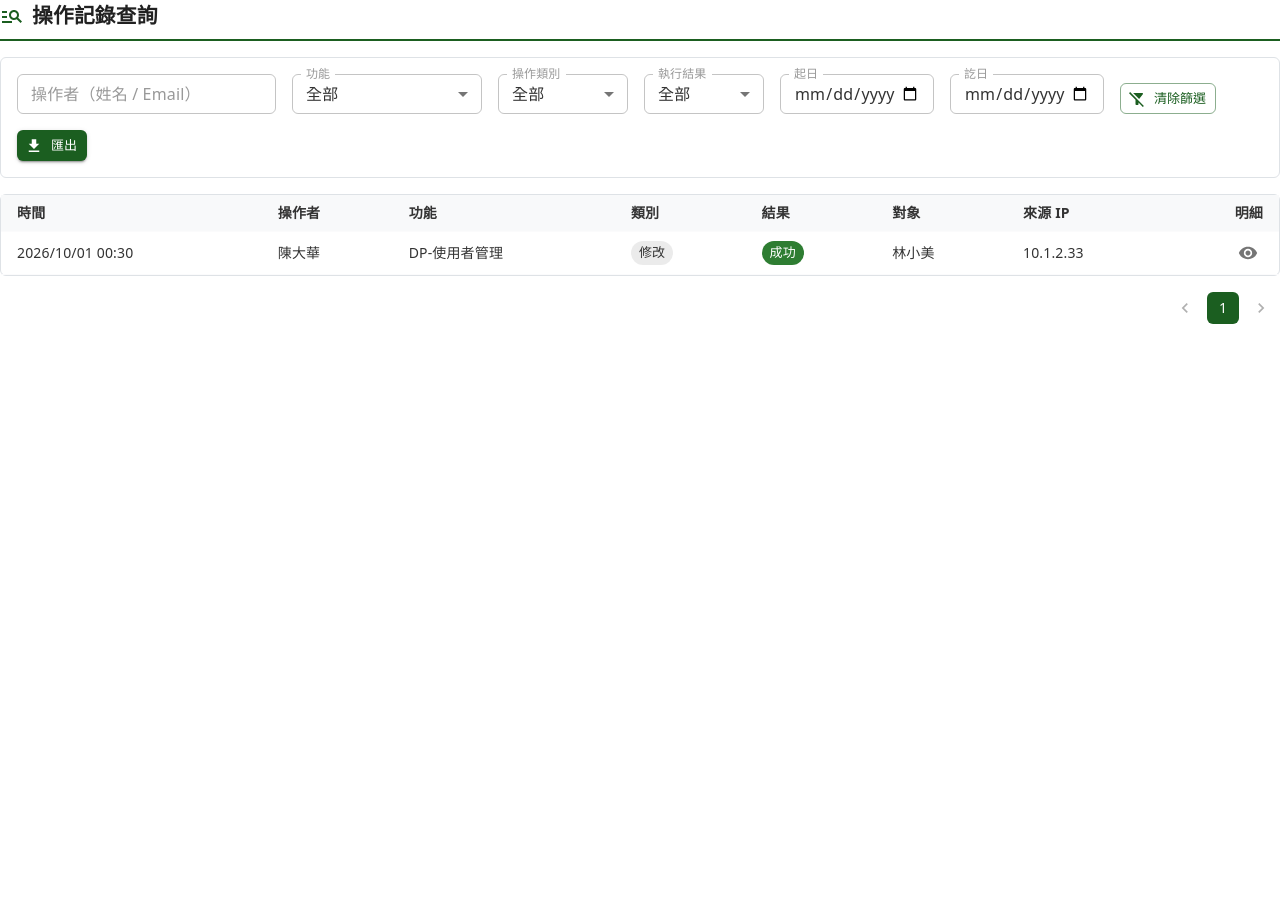
Test: AuditPage 時刻欄以台灣時間呈現（#559） › 明細視窗的時間欄為台灣時間，不隨瀏覽器時區
Expected: the text "2026/10/01 00:30" is shown, [1,231,262,274]
Click the button named "明細" at (1248, 253), box [1233,238,1263,268]
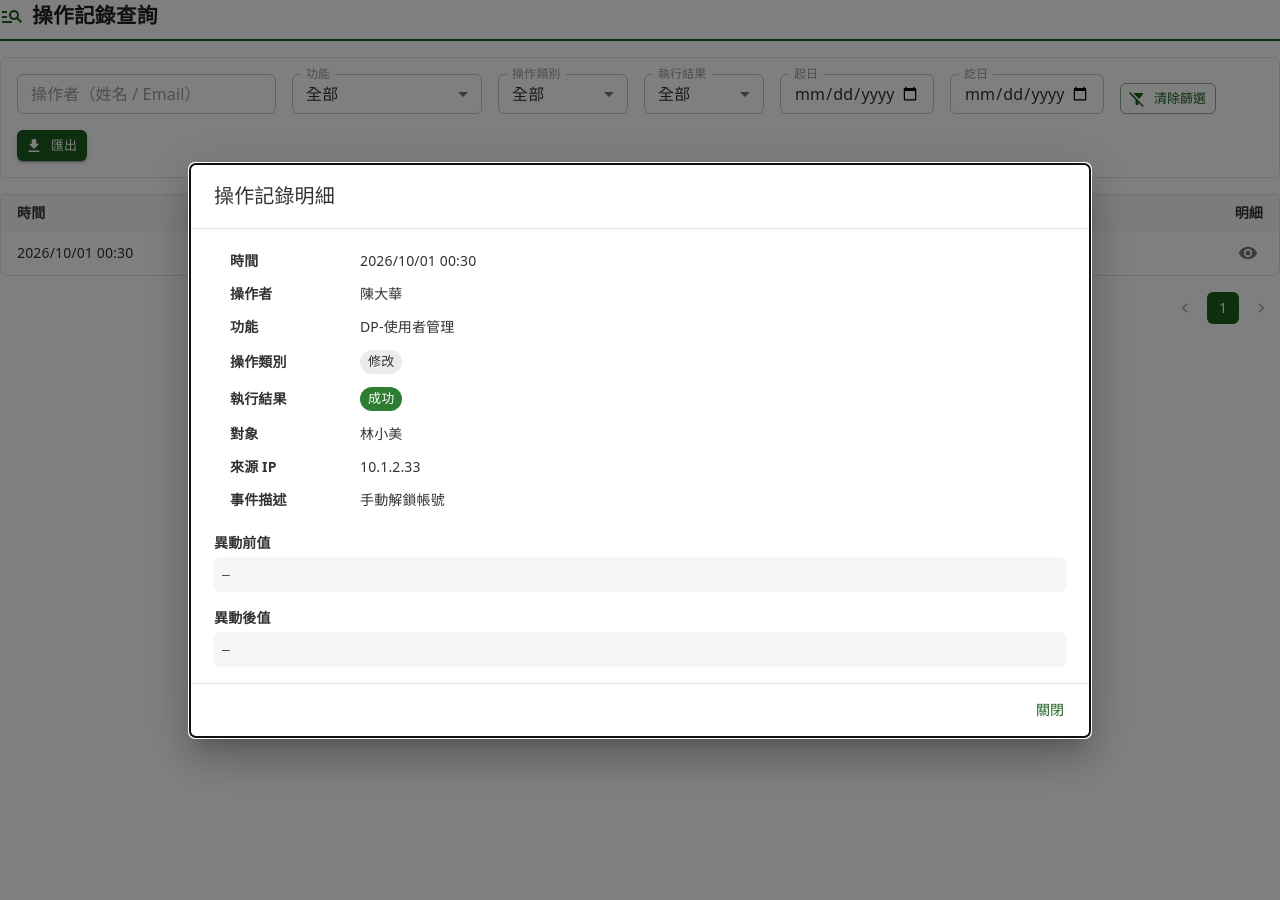
Expected: the text "2026/10/01 00:30" is shown, [344,244,1066,277]
